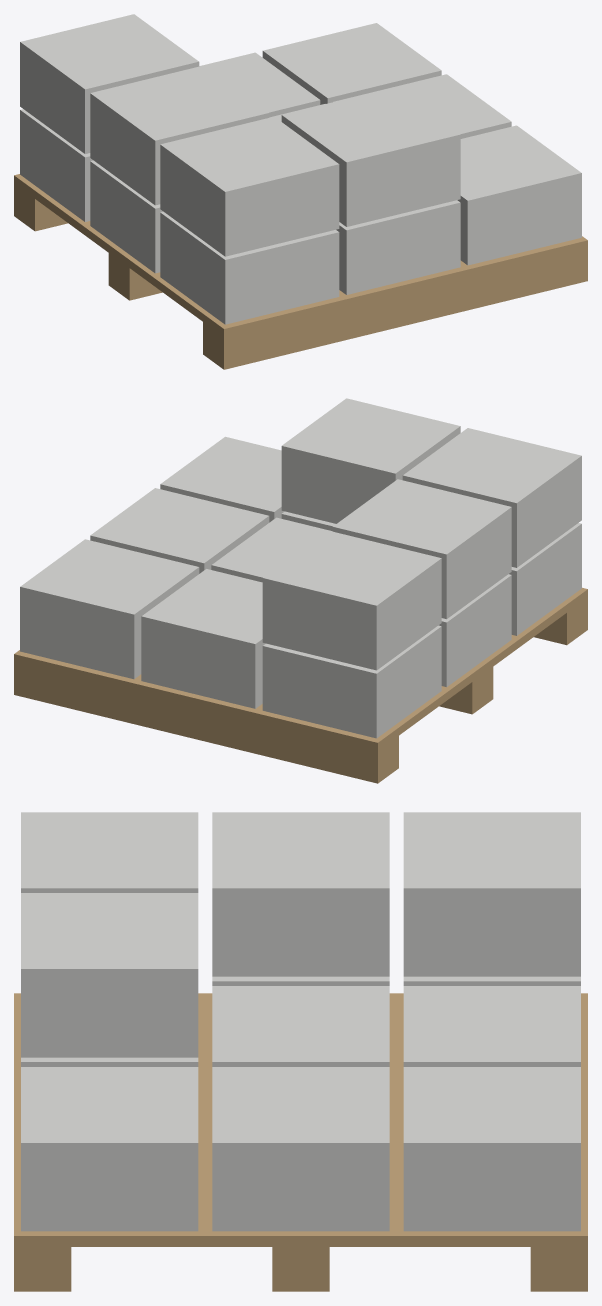
The model's file is pallet_mp_13.glb.
The picture shows the model from 3 angles, top to bottom: view 1: azimuth 30°, elevation 25°; view 2: azimuth 150°, elevation 25°; view 3: azimuth 270°, elevation 25°; orthographic projection. The views are drawn at different scales.
Parts seen in each view (by area): view 1: PalletMP; view 2: PalletMP; view 3: PalletMP.
Boxes of the visible parts, x1,y1,x2,y2 form: PalletMP: (14, 14, 587, 369); PalletMP: (14, 398, 587, 783); PalletMP: (14, 812, 587, 1291).
Bounding box in the file's own units: 1 × 0.46 × 1.
